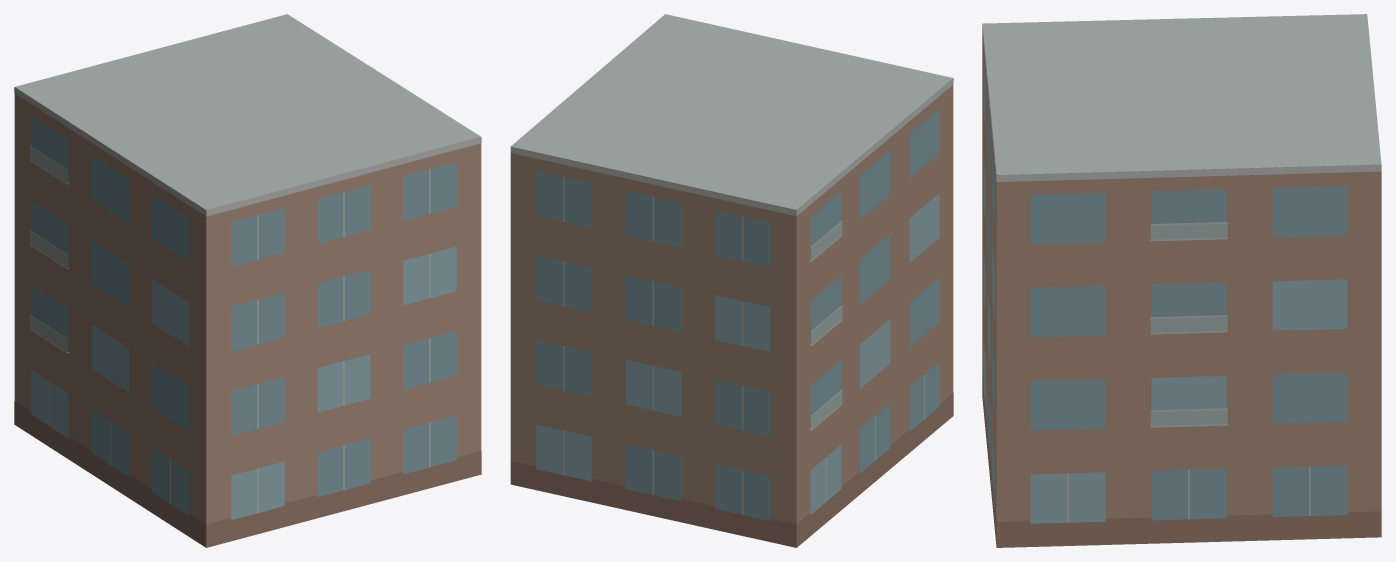
The model's file is survey-upis-32734290.glb.
3 renders of one model, left to right at view 1: azimuth 30°, elevation 25°; view 2: azimuth 150°, elevation 25°; view 3: azimuth 270°, elevation 25°, orthographic. The views are drawn at different scales.
Parts seen in each view (by area): view 1: survey-upis-32734290.tmp; view 2: survey-upis-32734290.tmp; view 3: survey-upis-32734290.tmp.
Part boxes in pixels (x1,y1,x2,y2): survey-upis-32734290.tmp: (14, 14, 481, 547); survey-upis-32734290.tmp: (510, 14, 953, 547); survey-upis-32734290.tmp: (982, 14, 1381, 547).
Bounding box in the file's own units: 12.06 × 13 × 12.62.
